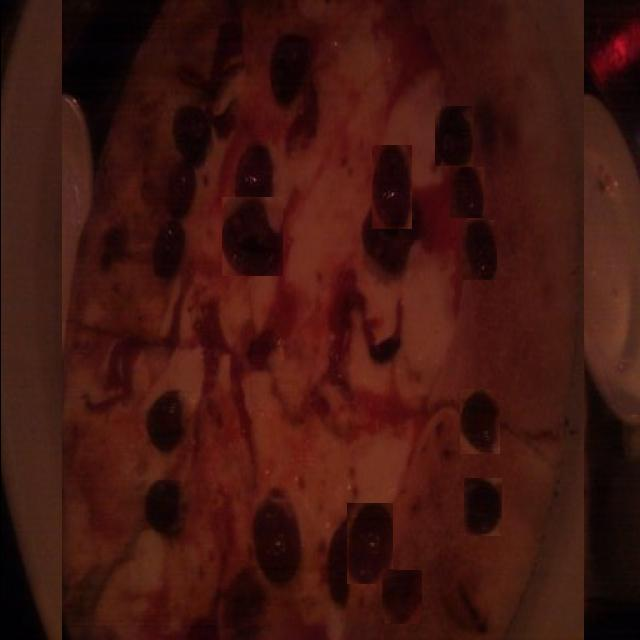olive: (221, 197, 282, 276), (269, 514, 319, 608), (346, 504, 392, 586), (371, 145, 411, 229), (334, 33, 376, 107), (459, 390, 499, 456), (434, 106, 472, 166), (463, 478, 501, 536), (381, 570, 421, 624), (461, 220, 496, 280), (449, 167, 483, 218)
pizza: (61, 0, 583, 640)
